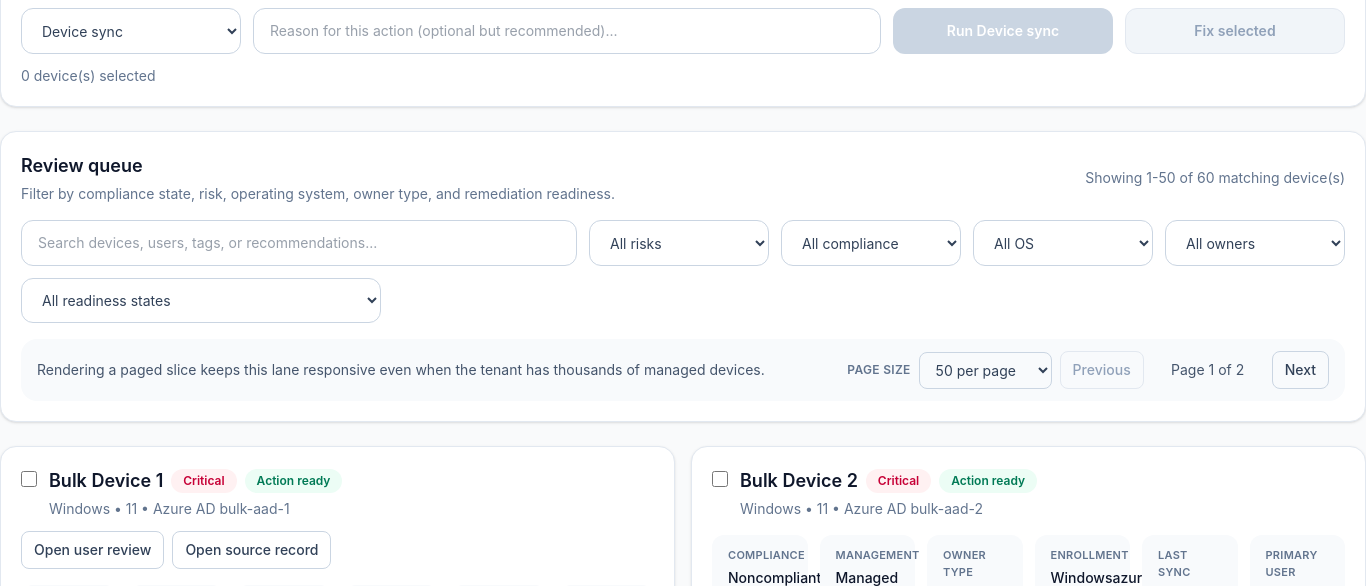
Test: AzureSecurityDeviceCompliancePage › renders device cards in pages so large tenants do not mount the whole queue at once
The width and height of the screenshot is (1366, 586).
(page scrolled)
Expected: the text "Showing 1-50 of 60 matching device(s)" is shown, [1085, 168, 1345, 188]
Expected: the heading "Bulk Device 1" is shown, [49, 467, 163, 495]
Click the button "Next" at (1300,370), box [1272, 351, 1329, 389]
(page scrolled)
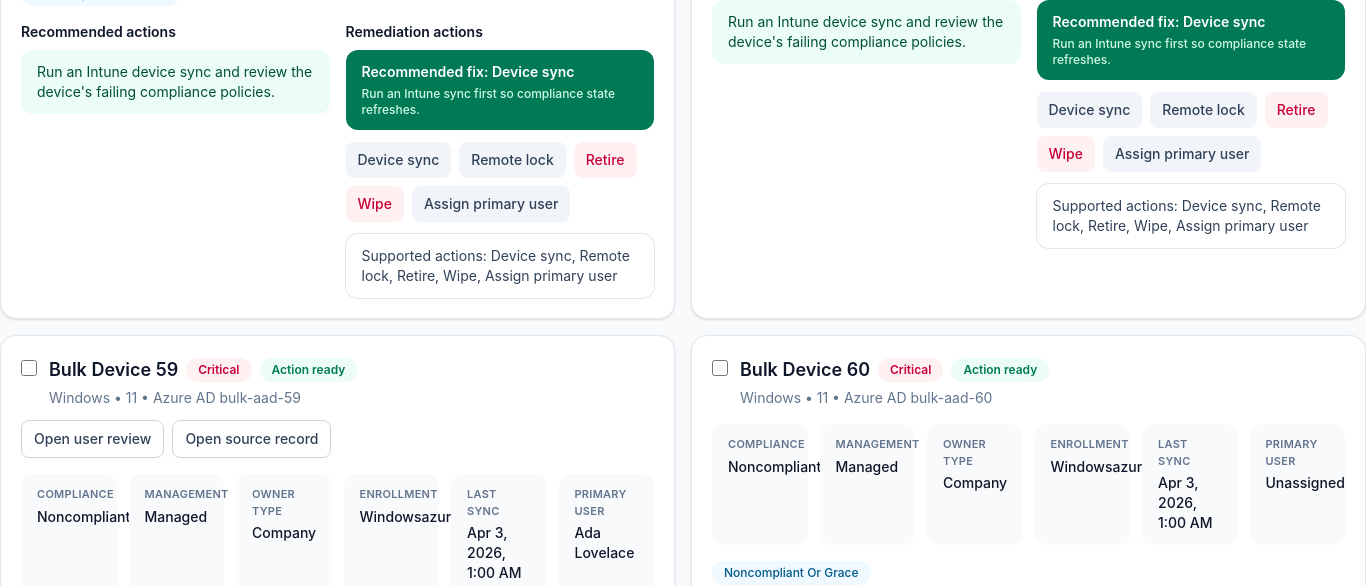
Result: the heading "Bulk Device 60" is shown at [740, 356, 870, 384]
Result: the heading "Bulk Device 1" is gone
